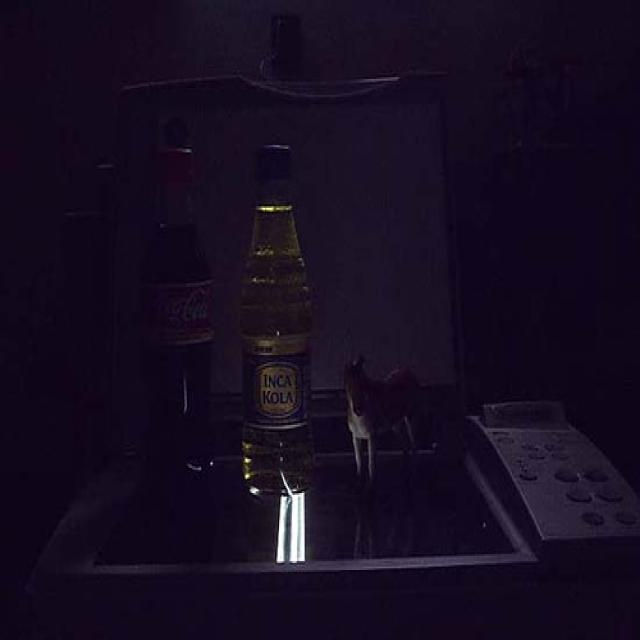Bottle: (121, 79, 224, 539), (250, 127, 317, 531)
